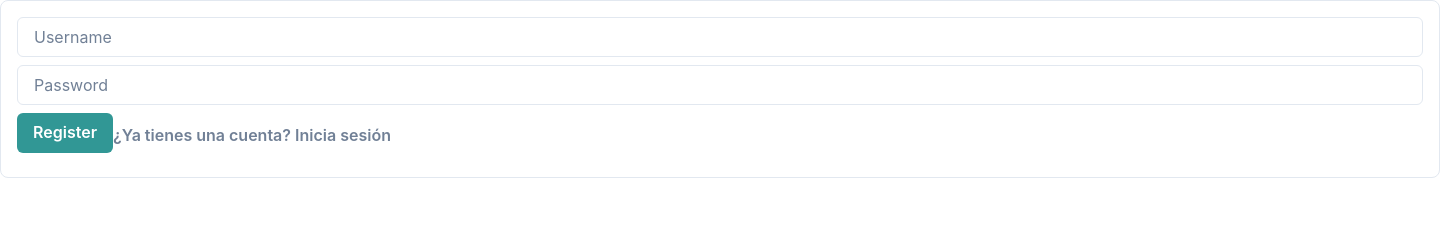
Test: renders RegisterForm and submits successfully
In the field with placeholder "Username": (720, 37) x1=17 y1=17 x2=1423 y2=57, type "John Doe"
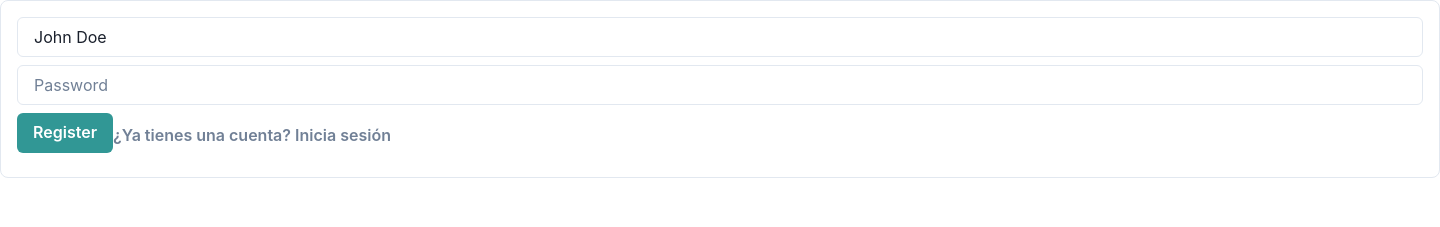
In the password field with placeholder "Password": (720, 85) x1=17 y1=65 x2=1423 y2=105, type "password123"
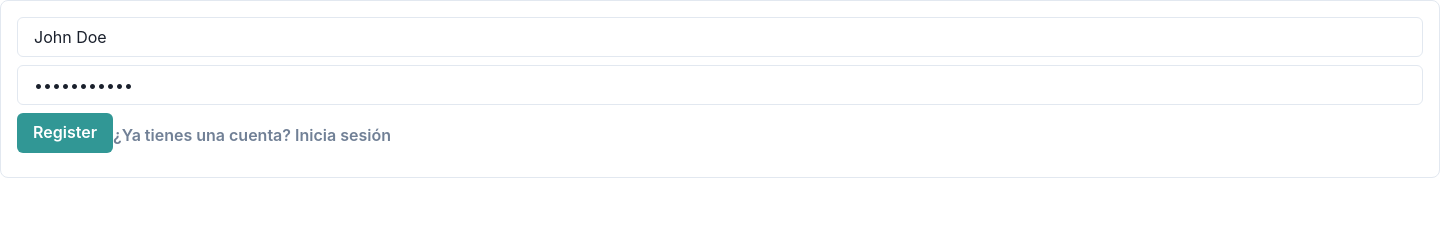
Click the button "Register": (65, 133) x1=17 y1=113 x2=113 y2=153
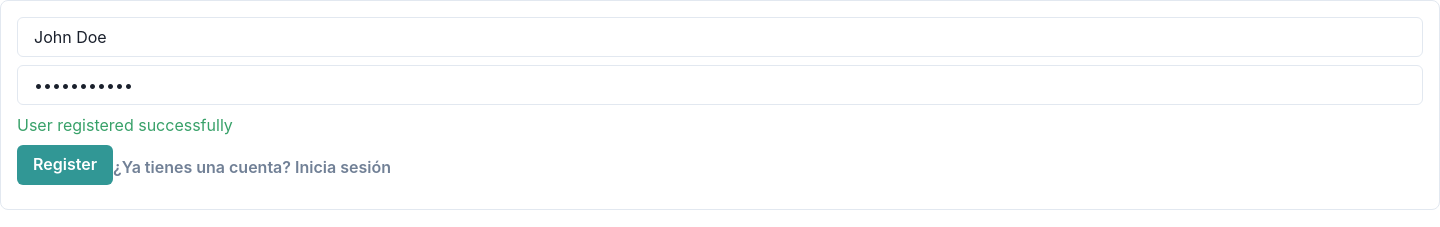
Result: the text "User registered successfully" is shown at x1=17 y1=115 x2=233 y2=135
